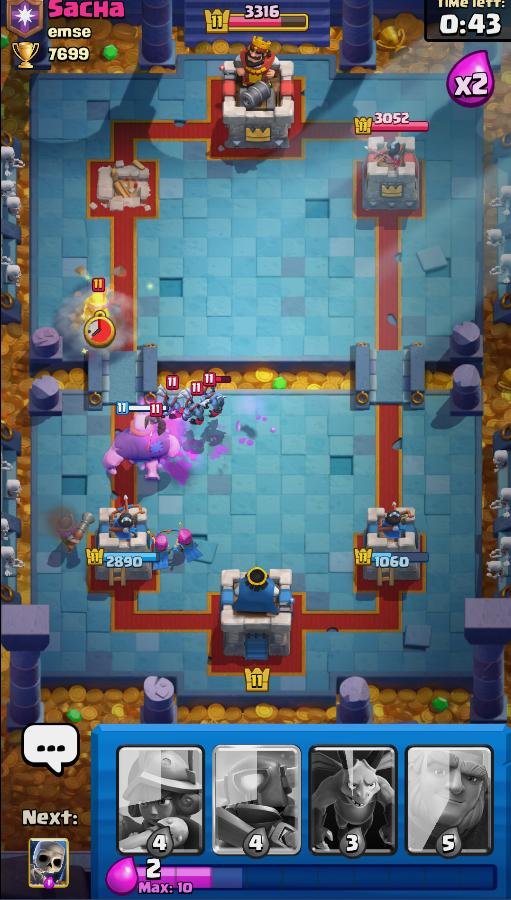archere: (148, 529, 204, 566)
bat: (142, 414, 174, 434)
gargouille: (196, 387, 227, 417), (158, 383, 186, 416), (180, 392, 208, 424)
geant: (101, 411, 182, 483)
mousquetaire: (57, 510, 94, 552), (82, 287, 116, 323)
